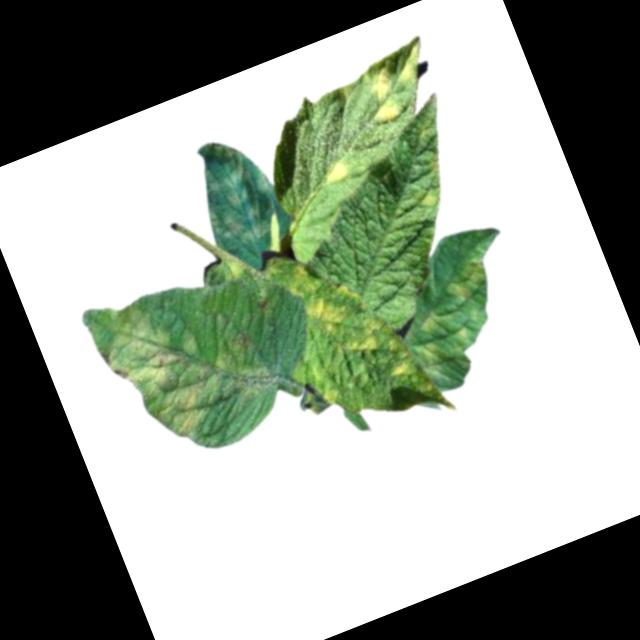Leaf_Mold: (88, 260, 282, 455), (390, 248, 523, 386), (175, 122, 294, 255), (350, 36, 443, 127), (300, 277, 370, 340), (334, 313, 392, 361), (316, 156, 355, 192), (409, 183, 444, 221), (382, 355, 417, 385)
